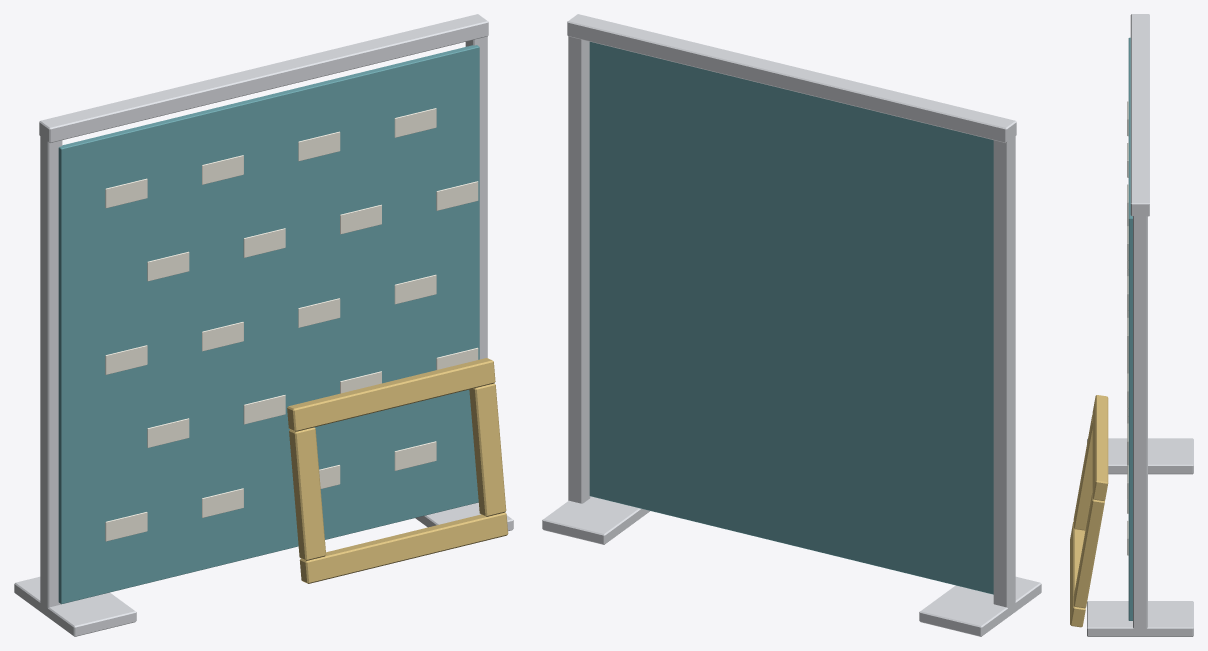
Rendered from escape-room-and-puzzle-venue-photo-backdrop-with-frame-0f587850.glb.
The picture shows the model from 3 angles, left to right: view 1: azimuth 30°, elevation 25°; view 2: azimuth 150°, elevation 25°; view 3: azimuth 270°, elevation 25°; orthographic projection. The views are drawn at different scales.
Visible parts, largest first — view 1: photo-backdrop-with-frame-prop; view 2: photo-backdrop-with-frame-prop; view 3: photo-backdrop-with-frame-prop.
Boxes of the visible parts, x1,y1,x2,y2 form: photo-backdrop-with-frame-prop: [14, 14, 513, 636]; photo-backdrop-with-frame-prop: [542, 14, 1041, 636]; photo-backdrop-with-frame-prop: [1070, 14, 1193, 636].
Bounding box in the file's own units: 2.1 × 2.24 × 0.5786.
